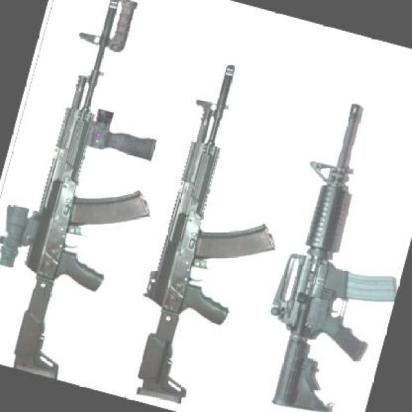Gun: (0, 0, 159, 371), (137, 63, 276, 401), (266, 101, 398, 412)
